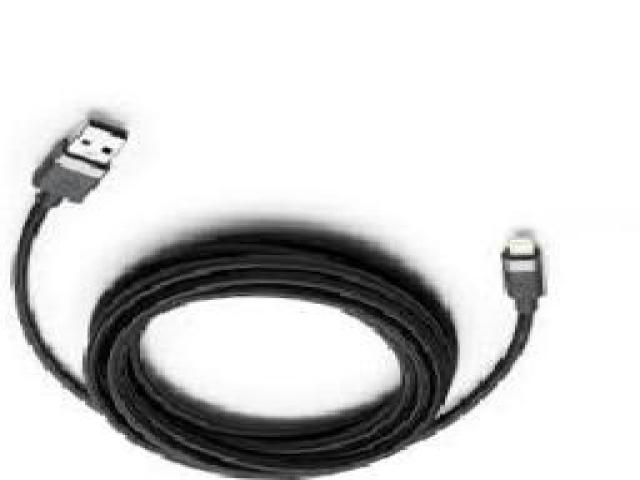wire: (10, 114, 548, 478)
